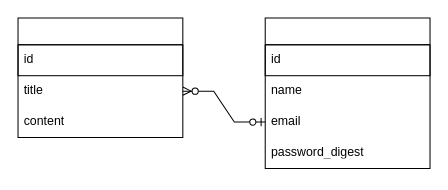
Image size: 448x190. Some labels were removed from this diagram. The box of each missing label's shape, as (x1, y1, x2, y2) in pixels:
task: (17, 17, 183, 138)
user: (264, 17, 430, 168)
